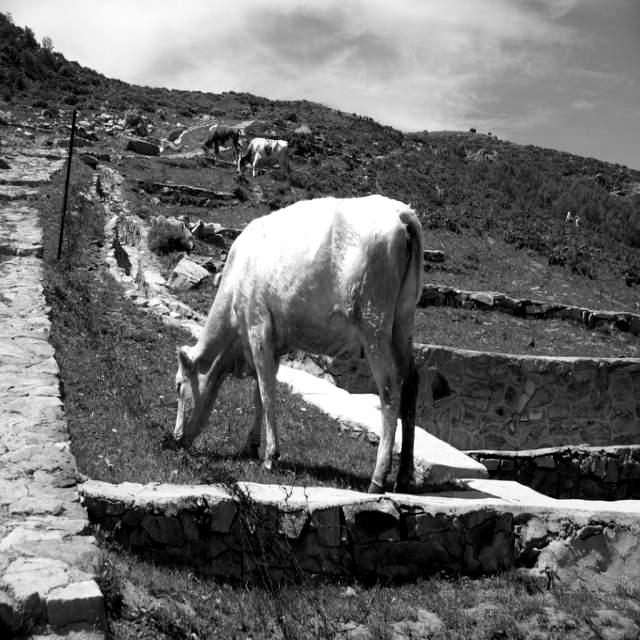COW: (174, 195, 422, 492)
